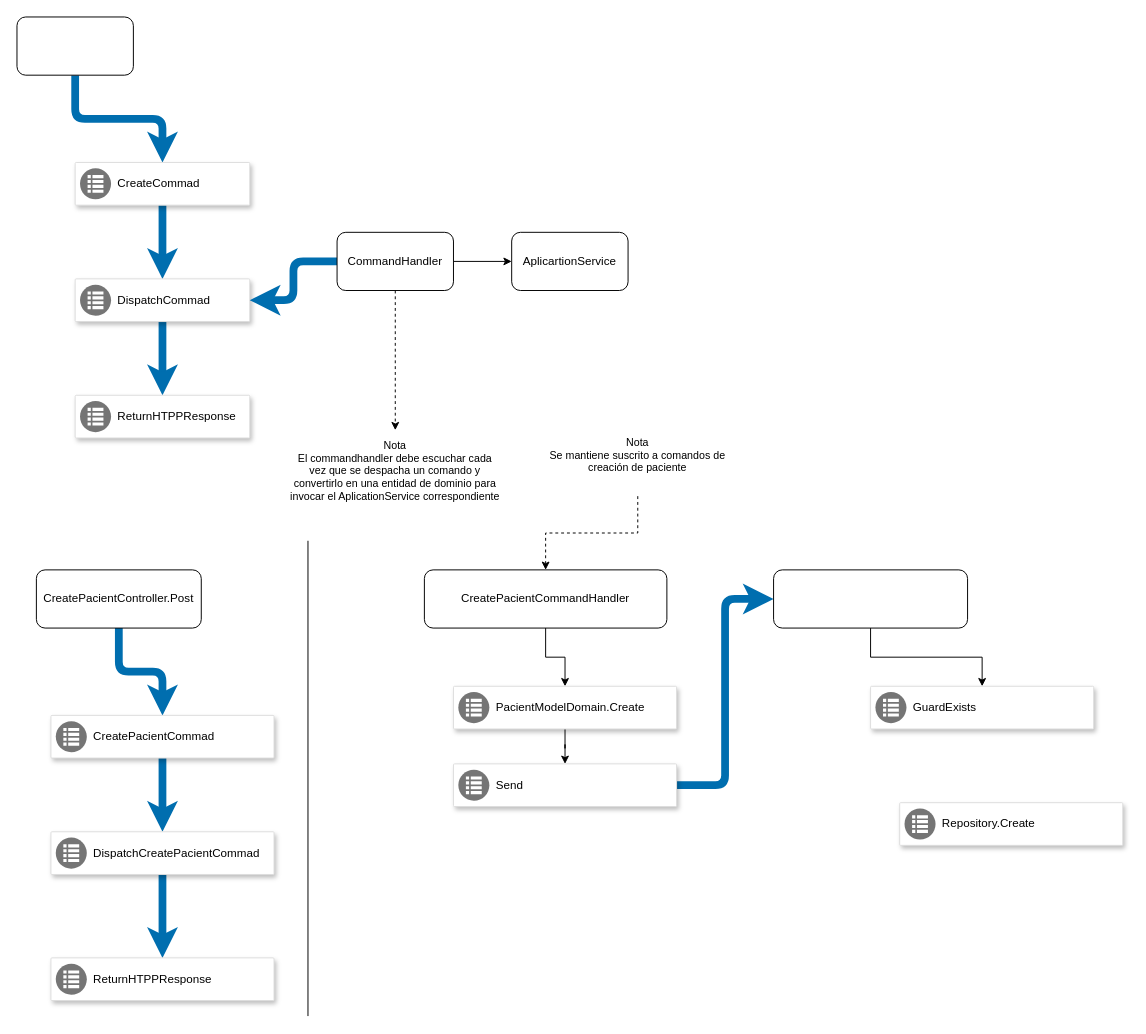
The diagram is 1146 pixels wide and 1034 high, and some of its shapes have lost their labels. The shapes that lost their labels are listed below. From the top down, each one's centre as x and y in pixels, then its label:
At point (74, 45): "PostController".
At point (870, 598): "PacientAplicartionService".
